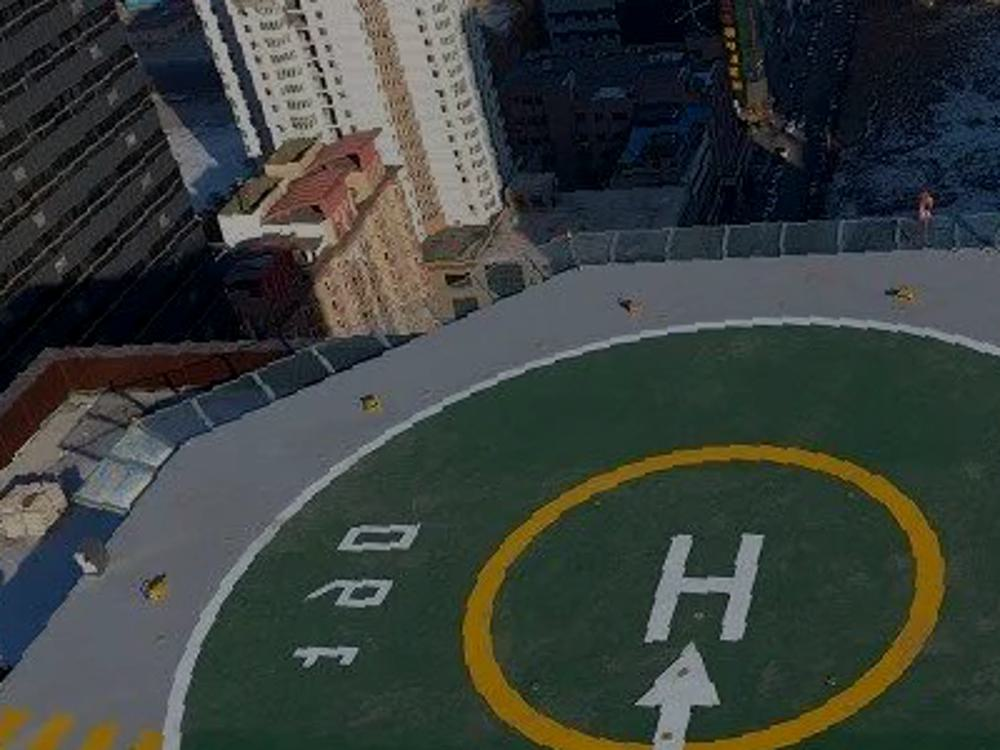Apron: (453, 426, 976, 750)
